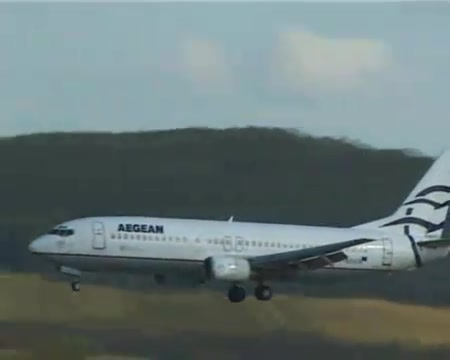aeroplane: (29, 148, 448, 304)
